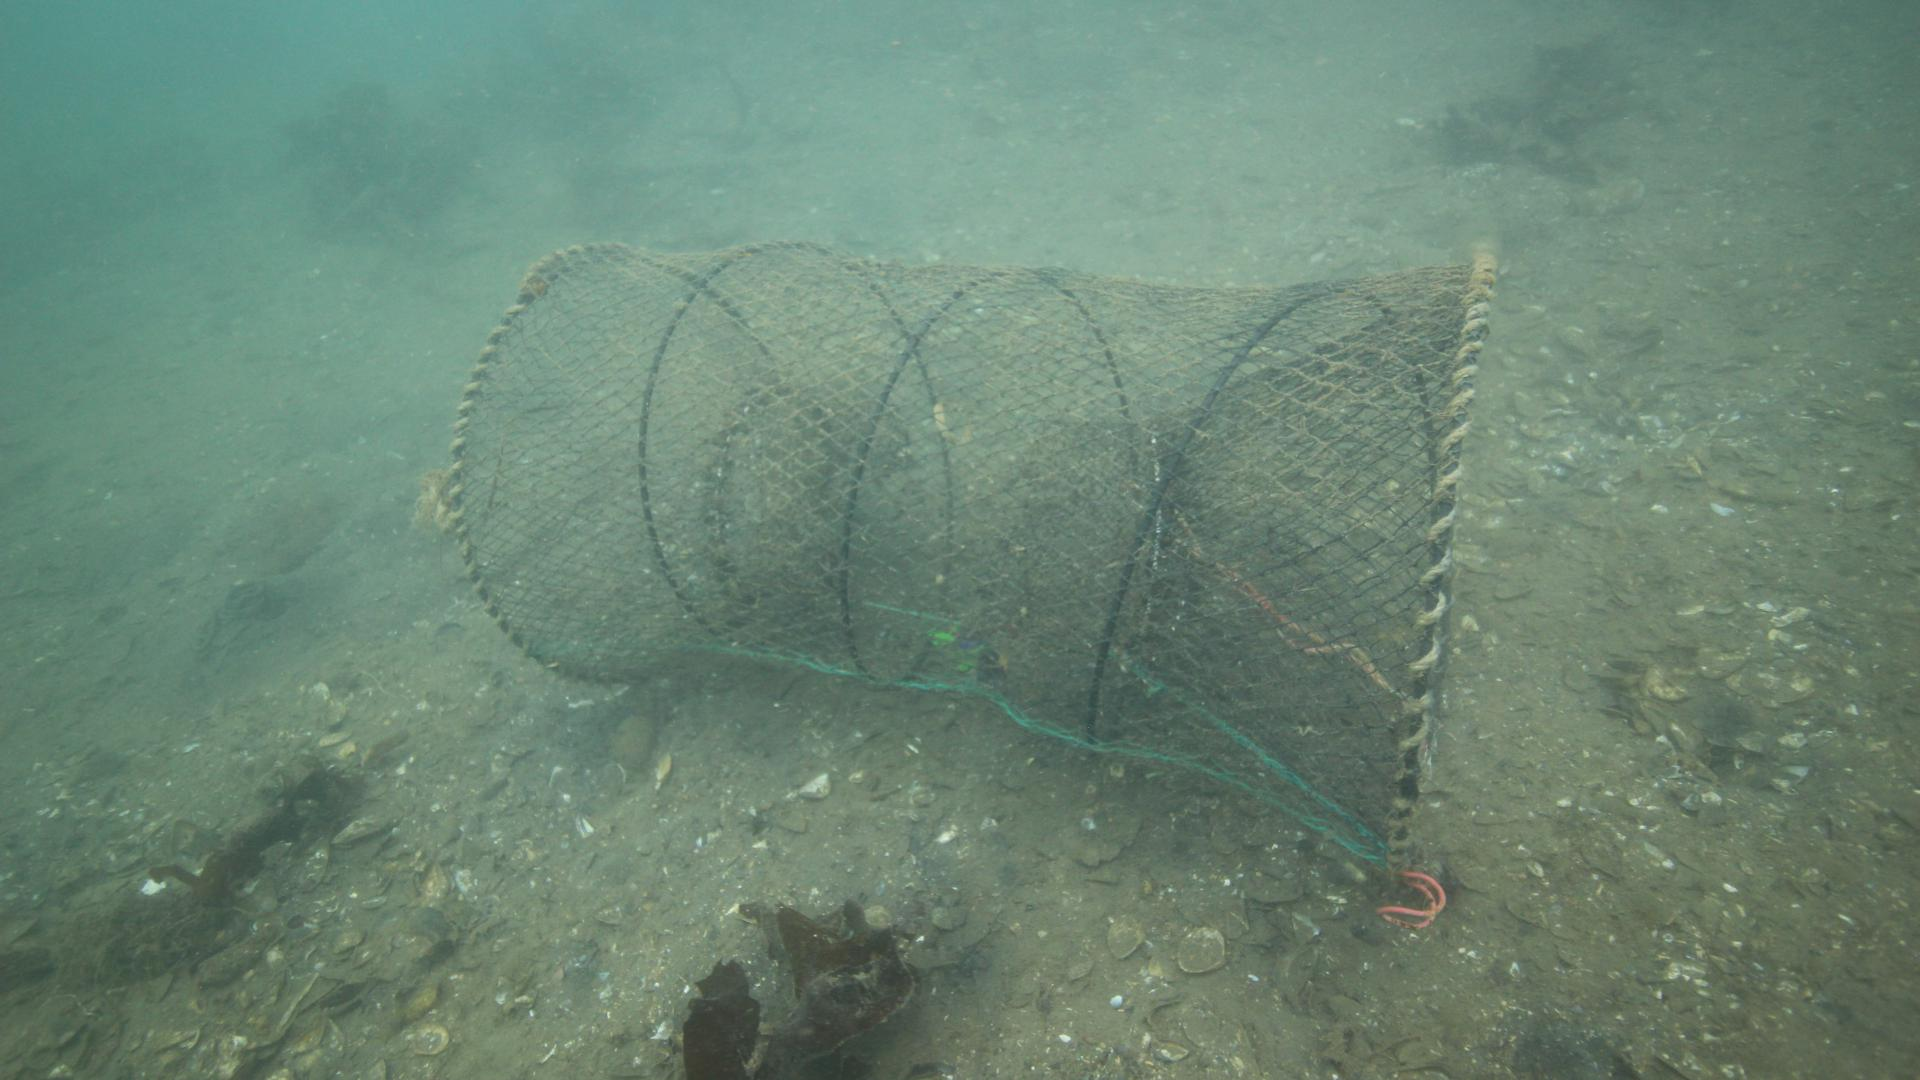spring fish trap: (438, 233, 1497, 889)
